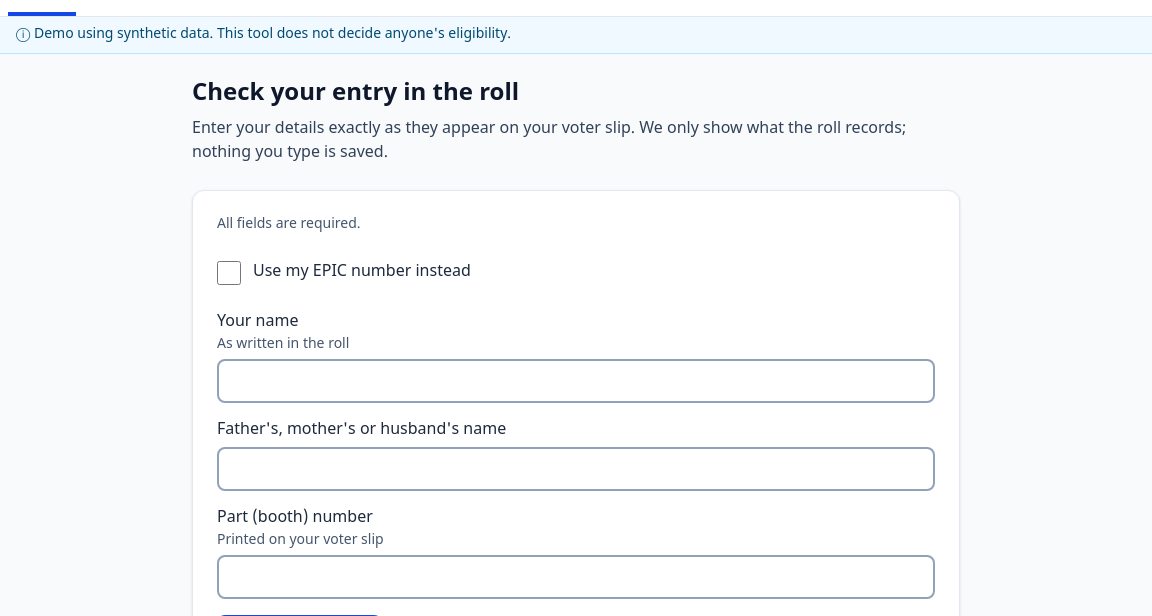
it: Citizen page results (mocks) › REMOVED shows masked EPIC, part, reason, steps, deadline and disclaimer
The width and height of the screenshot is (1152, 616).
Type "Sunita Devi" into the field labelled "Your name" at (576, 381), box [217,359,935,403]
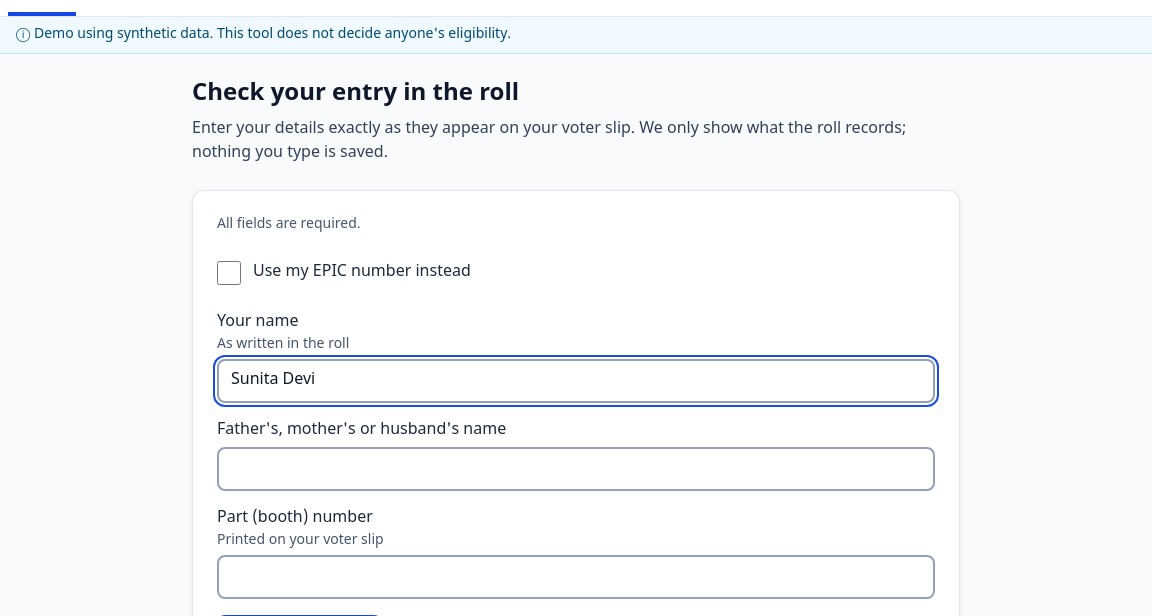
Type "Ramesh Kumar" into the field labelled "Father's, mother's or husband's name" at (576, 469), box [217,447,935,491]
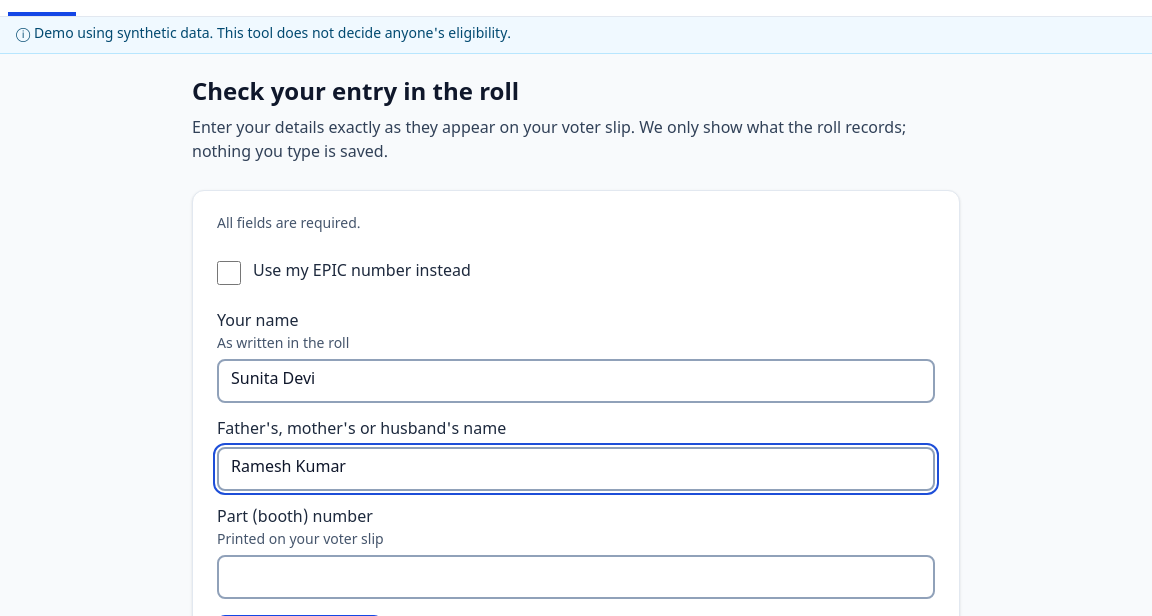
Type "17" into the field labelled "Part (booth) number" at (576, 577), box [217,555,935,599]
(page scrolled)
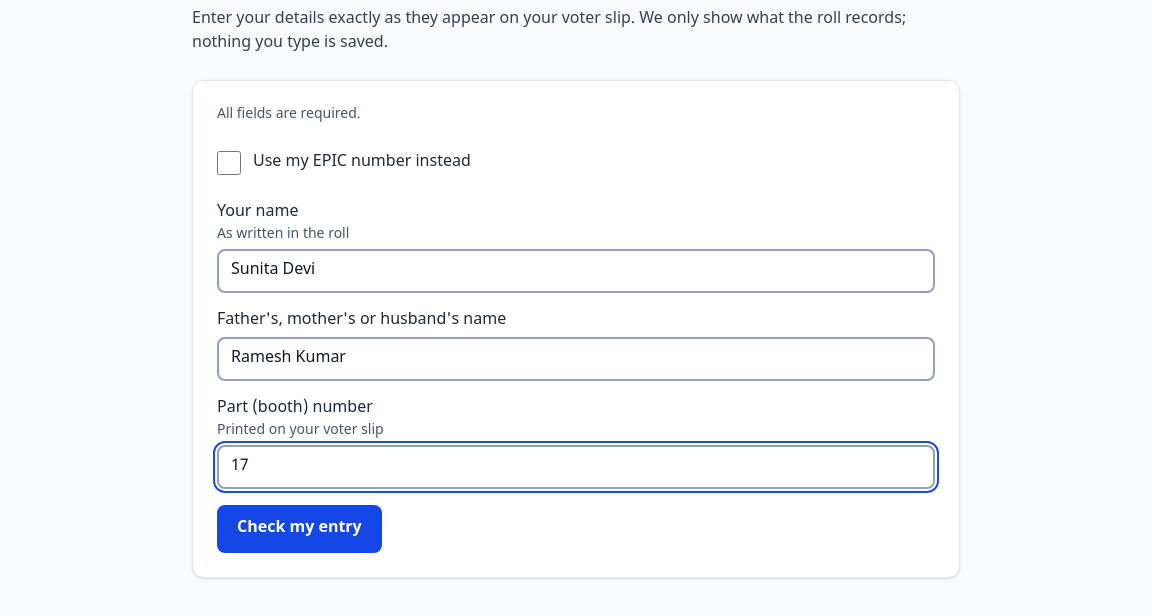
Click the button "Check my entry" at (299, 529), box [217,505,382,553]
(page scrolled)
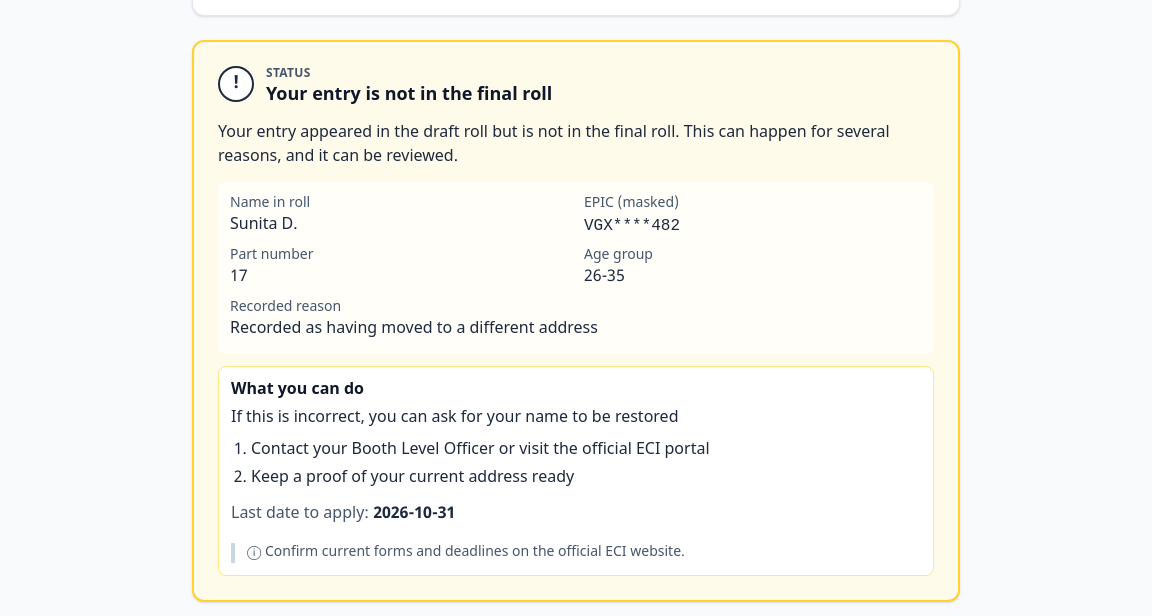
Check: the element that starts with "Status" is shown
Check: the heading "Your entry is not in the final roll" is shown, box [266,82,552,110]
Check: the text "VGX****482" is shown, box [584,217,680,235]
